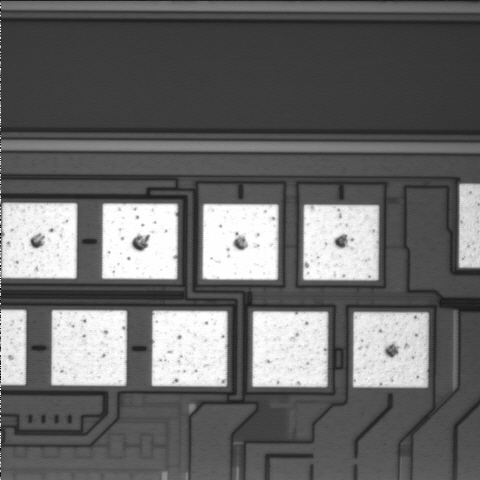pad: (102, 203, 178, 279), (202, 204, 278, 280), (51, 310, 127, 386), (252, 311, 328, 387), (2, 203, 77, 279), (303, 205, 379, 280), (152, 311, 227, 386), (353, 312, 428, 387)
